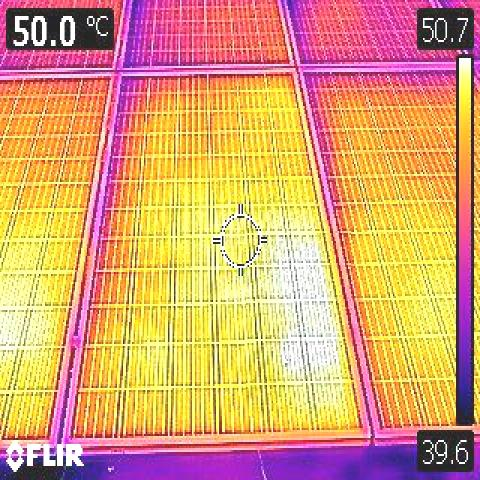fault: (246, 230, 351, 414)
